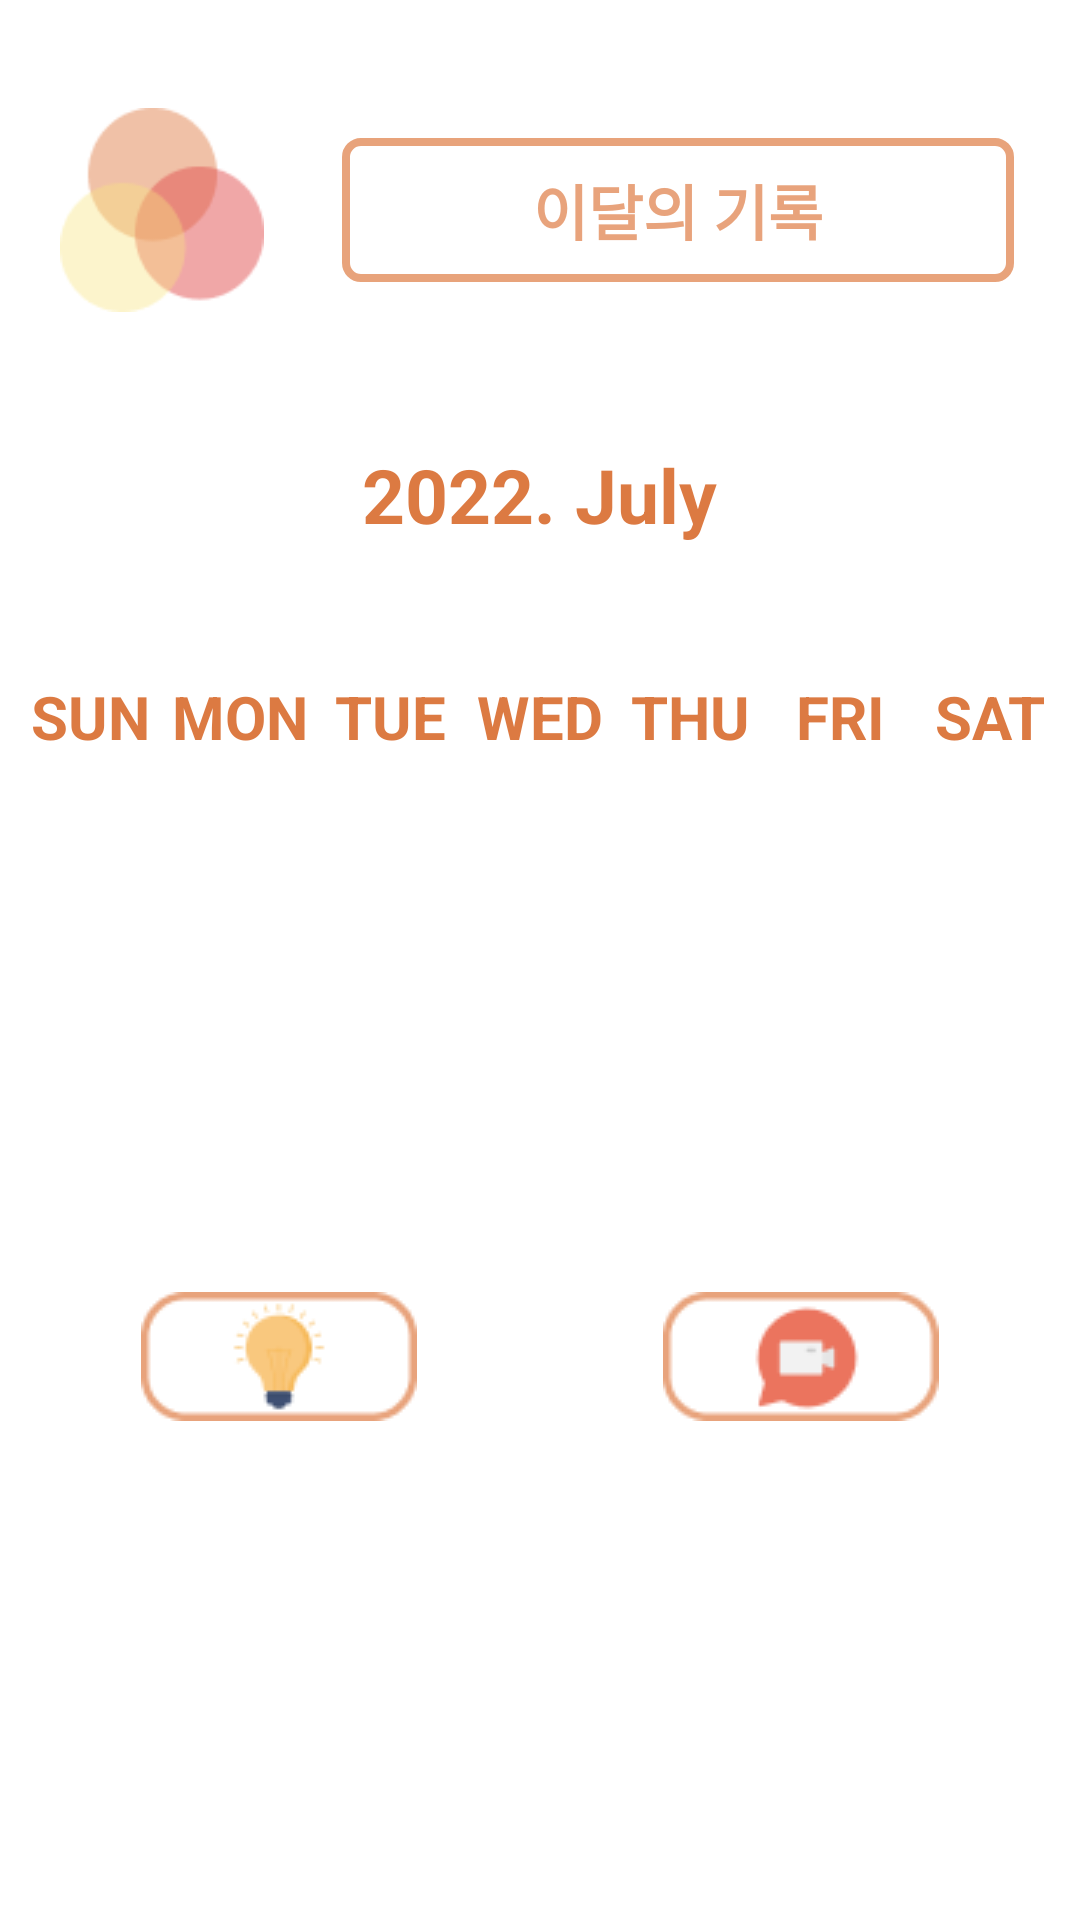

Point at icon controls on the screen. Image size 1080w x 1920h, points as [x,y].
video: [801,1356]
